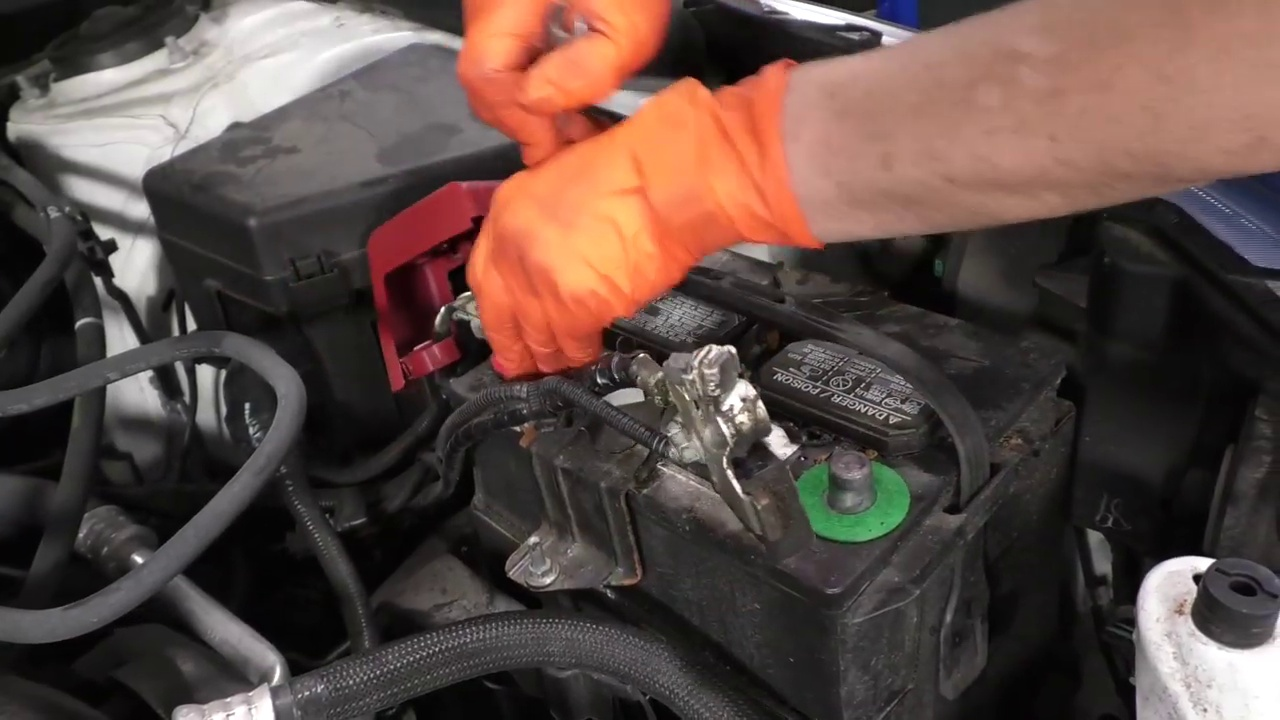battery: (425, 245, 1064, 596)
neg_disconnected: (747, 420, 912, 569)
pos_touched: (379, 183, 648, 402)
